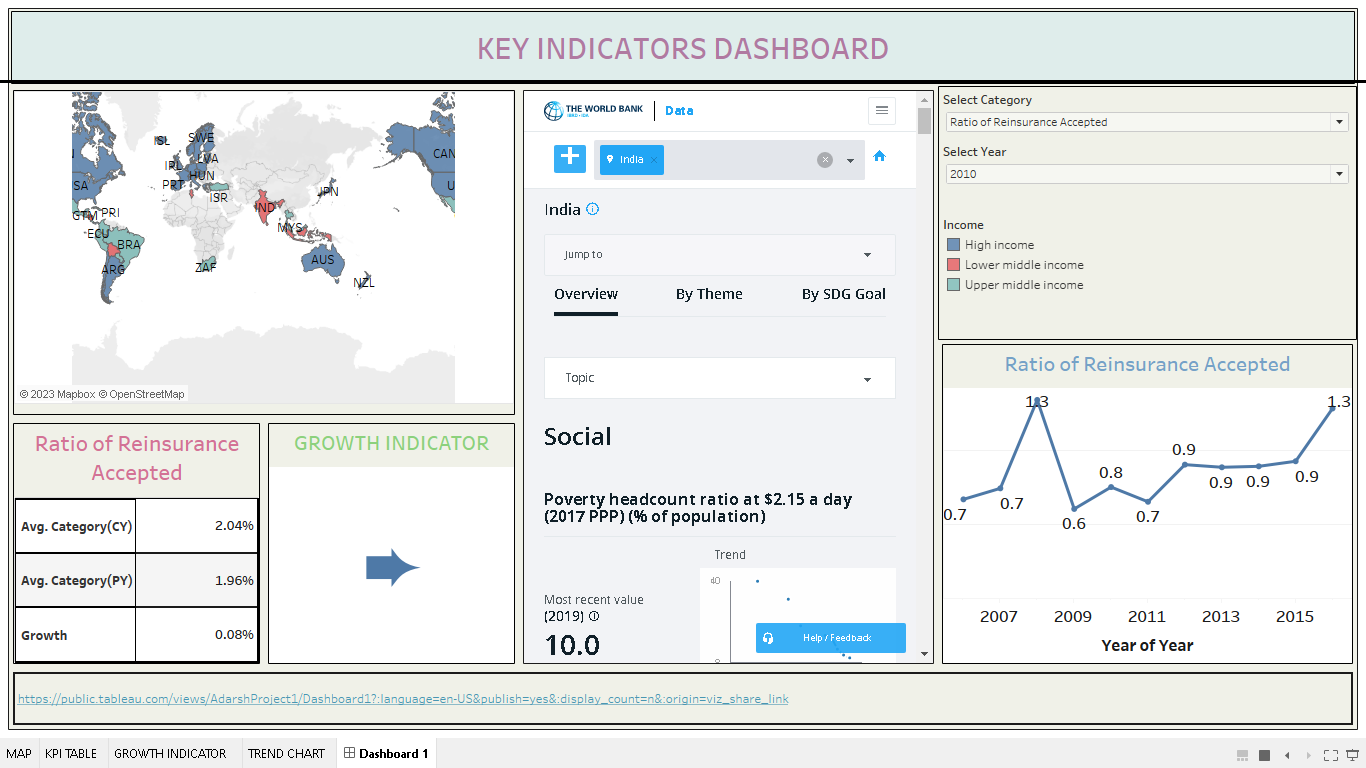

What the dashboard file says about the page in this screenshot:
{"tool":"tableau","page":{"name":"Dashboard 1","canvas":[1000,1000],"units":"permille","ordinal":0},"visuals":[{"type":"text","box":[6.8,13.7,986.4,119]},{"type":"worksheet","title":"MAP","mark":"Multipolygon","box":[6.8,132.7,373.2,430.3]},{"type":"parameter","param":"[Parameters].[Parameter 2]","box":[380.8,133.6,611.5,89]},{"type":"parameter","param":"[Parameters].[Parameter 1]","box":[380.8,222.6,611.5,89]},{"type":"currpage","title":"TREND CHART","box":[380.8,311.6,611.5,119.9]},{"type":"legend","title":"MAP","param":"[federated.00q4q1x0kycqjg1am71iy0s8w6io].[none:income:nk]","box":[380.8,431.5,611.5,133.6]},{"type":"worksheet","title":"KPI TABLE","mark":"Automatic","box":[6.8,563,186.6,368.5]},{"type":"worksheet","title":"GROWTH INDICATOR","mark":"Automatic","box":[193.4,563,186.6,368.5]},{"type":"worksheet","title":"TREND CHART","mark":"Automatic","rows":["Calculation_702280127515295744"],"cols":["Year"],"box":[380,566.8,613.2,364.7]},{"type":"blank","box":[6.8,931.5,986.4,54.8]}]}

Visuals, with their boxes on the dashboard's canvas, which has no fixed pixel size, in thousandths of its width and height (x1, y1, x2, y2). These are canvas units, not pixel positions in the 1366x768 screenshot, which may show the page scaled, cropped or inside an application window:
text: [x1=7, y1=14, x2=993, y2=133]
"MAP" worksheet (Multipolygon marks): [x1=7, y1=133, x2=380, y2=563]
parameter: [x1=381, y1=134, x2=992, y2=223]
parameter: [x1=381, y1=223, x2=992, y2=312]
"TREND CHART" currpage: [x1=381, y1=312, x2=992, y2=432]
"MAP" legend: [x1=381, y1=432, x2=992, y2=565]
"KPI TABLE" worksheet: [x1=7, y1=563, x2=193, y2=932]
"GROWTH INDICATOR" worksheet: [x1=193, y1=563, x2=380, y2=932]
"TREND CHART" worksheet: [x1=380, y1=567, x2=993, y2=932]
blank: [x1=7, y1=932, x2=993, y2=986]
